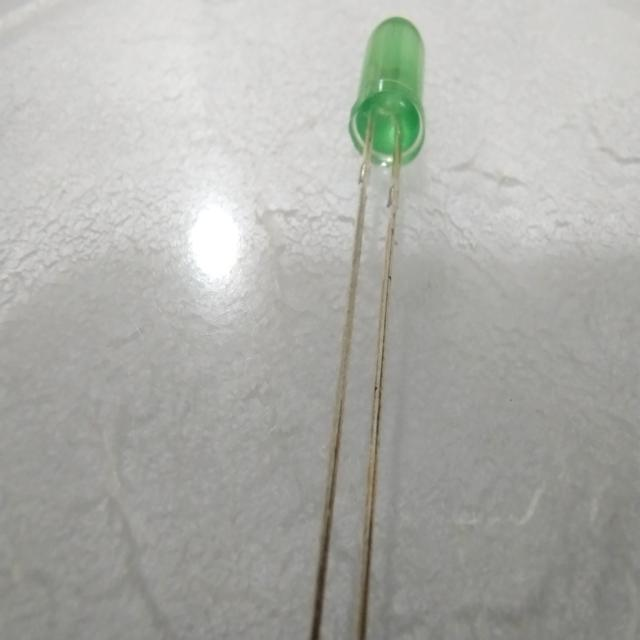green_led: (344, 11, 432, 175)
